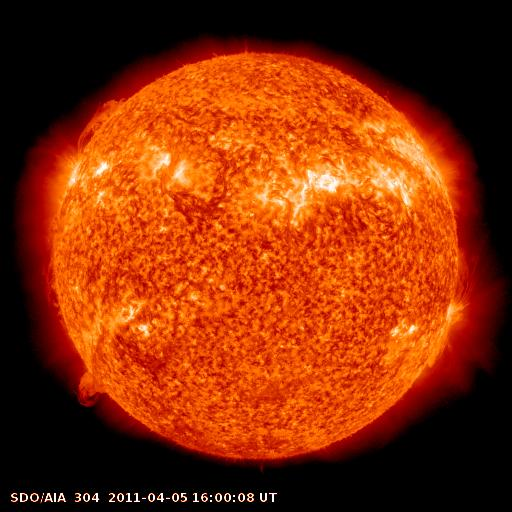prominence: (70, 90, 138, 151), (38, 254, 80, 340), (441, 244, 488, 311), (66, 360, 112, 416)
